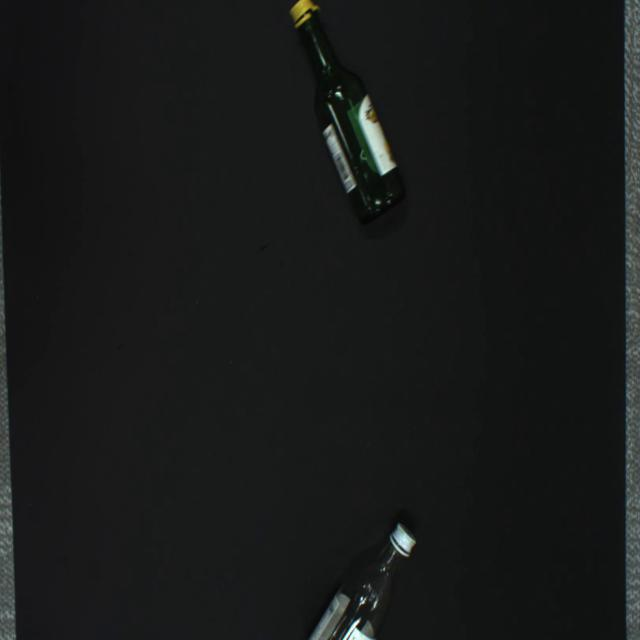soju-bottle: (289, 0, 407, 225), (307, 522, 417, 639)
